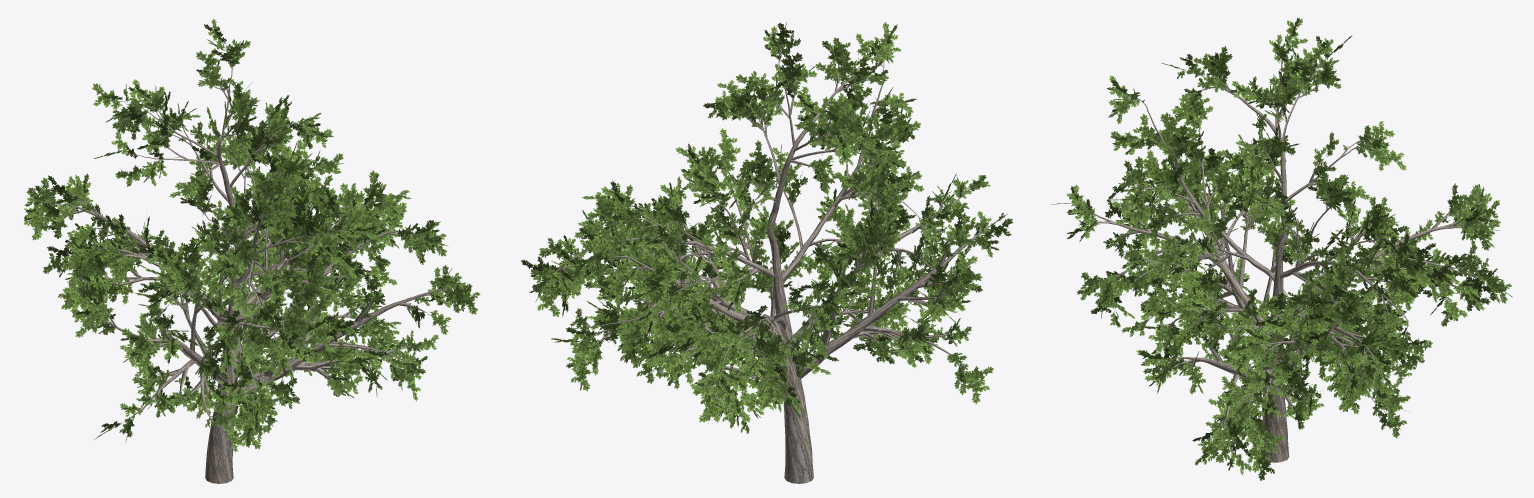
File: OakVeteran.glb
3 views of the same model, side by side, from view 1: azimuth 30°, elevation 25°; view 2: azimuth 150°, elevation 25°; view 3: azimuth 270°, elevation 25° (orthographic). The views are drawn at different scales.
Visible parts, largest first — view 1: OakVeteran canopy, OakVeteran trunk; view 2: OakVeteran canopy, OakVeteran trunk; view 3: OakVeteran canopy, OakVeteran trunk.
Boxes of the visible parts, <box> form: OakVeteran canopy: <box>23,18,480,452</box>; OakVeteran trunk: <box>52,48,448,483</box>; OakVeteran canopy: <box>521,22,1013,433</box>; OakVeteran trunk: <box>548,45,994,483</box>; OakVeteran canopy: <box>1051,17,1512,480</box>; OakVeteran trunk: <box>1086,47,1479,462</box>.
Bounding box in the file's own units: 17.15 × 18.5 × 17.77.
Materials: 2 (2 with a texture image).
